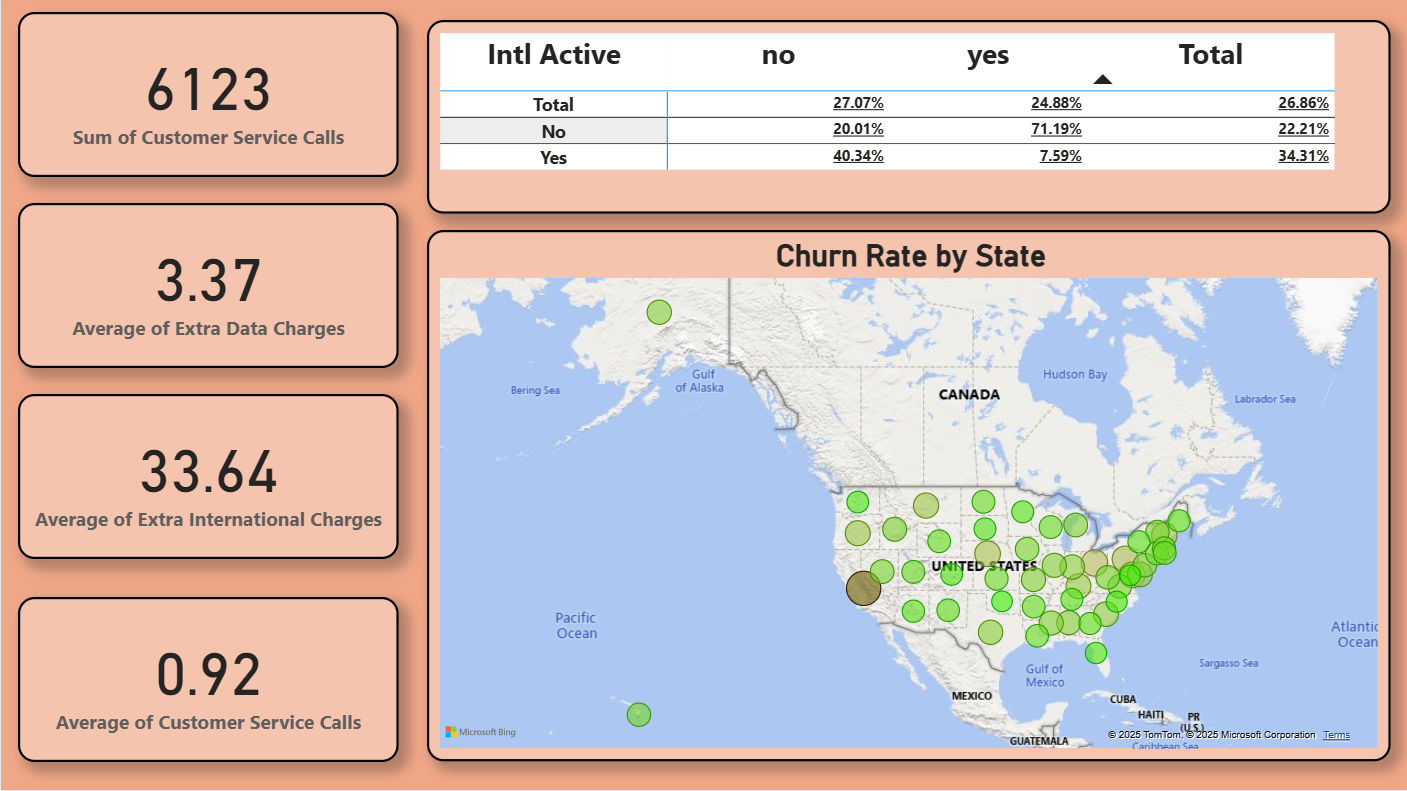

The page's visual inventory and layout, read from the dashboard file:
{"tool":"powerbi","page":{"name":"International Plan","canvas":[1280,720],"ordinal":3},"visuals":[{"type":"map","fields":{"Category":["Databel - Data.State"],"Size":["Databel - Data.Churn Rate"]},"box":[387.1,178,876.4,516.5],"z":0},{"type":"card","fields":{"Values":["Avg(Databel - Data.Customer Service Calls)"]},"box":[15.6,544.7,346.3,149.8],"z":1000},{"type":"card","fields":{"Values":["Avg(Databel - Data.Extra Data Charges)"]},"box":[15.6,186.7,346.3,149.8],"z":2000},{"type":"card","fields":{"Values":["Avg(Databel - Data.Extra International Charges)"]},"box":[15.6,359.9,346.3,149.8],"z":3000},{"type":"card","fields":{"Values":["Sum(Databel - Data.Customer Service Calls)"]},"box":[15.6,12.6,346.3,149.8],"z":4000},{"type":"pivotTable","fields":{"Rows":["Databel - Data.Intl Active"],"Columns":["Databel - Data.Intl Plan"],"Values":["Databel - Data.Churn Rate"]},"box":[387,20,876,152],"z":5000}]}

Visuals, with their boxes in screenshot pixels (x1, y1, x2, y2), scaled from the page's 1280x720 canvas onto the 1407x791 screenshot:
map - Databel - Data.State x Databel - Data.Churn Rate: <region>426, 196, 1389, 763</region>
card - Avg(Databel - Data.Customer Service Calls): <region>17, 598, 398, 763</region>
card - Avg(Databel - Data.Extra Data Charges): <region>17, 205, 398, 370</region>
card - Avg(Databel - Data.Extra International Charges): <region>17, 395, 398, 560</region>
card - Sum(Databel - Data.Customer Service Calls): <region>17, 14, 398, 178</region>
pivotTable - Databel - Data.Intl Active x Databel - Data.Intl Plan: <region>425, 22, 1388, 189</region>
